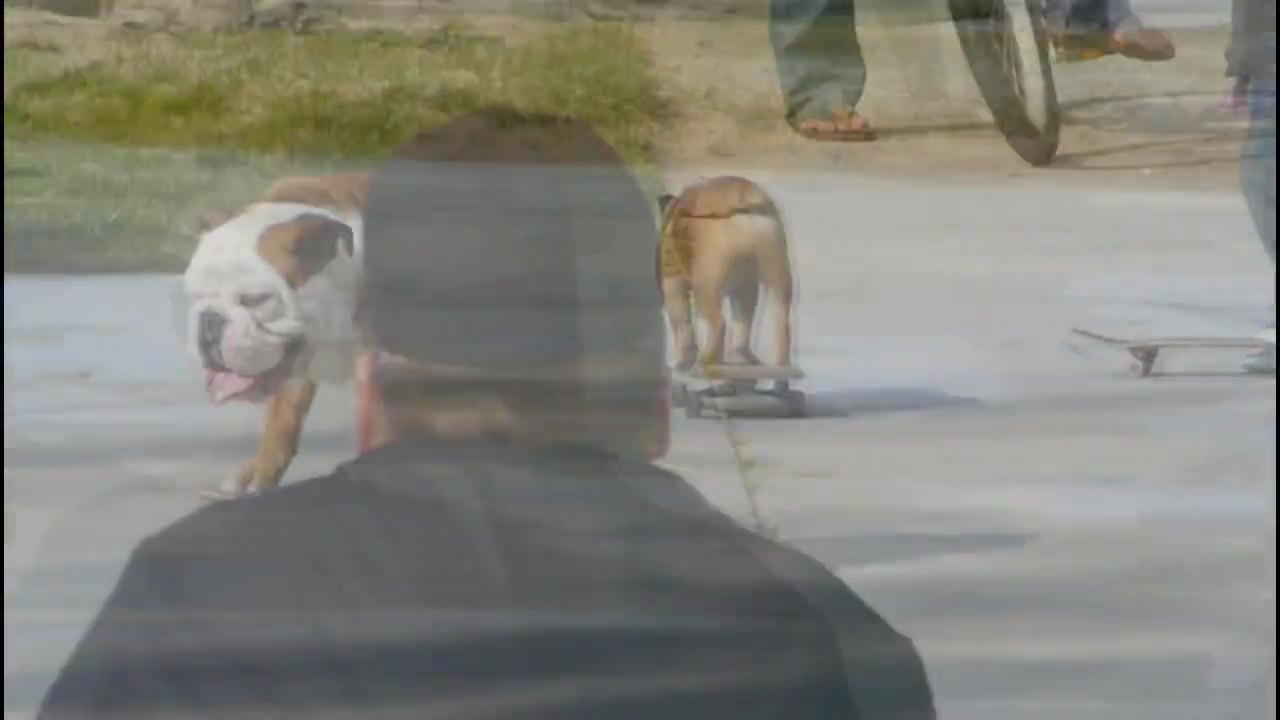dog: (648, 174, 800, 376)
